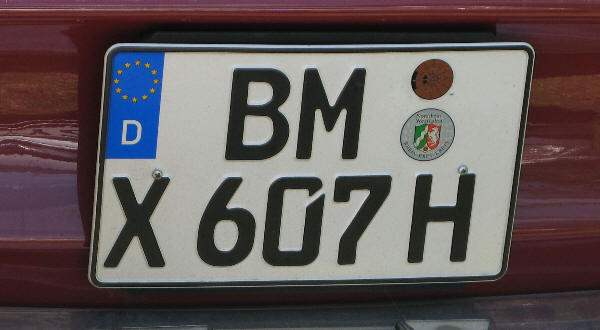license_plate: (86, 41, 534, 290)
